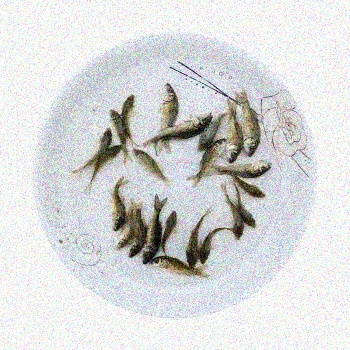fry: (139, 200, 164, 264), (239, 98, 263, 161), (152, 80, 184, 127), (130, 143, 165, 183), (223, 102, 243, 168), (152, 255, 198, 283), (163, 112, 214, 137), (103, 179, 128, 230), (200, 225, 231, 266), (200, 137, 224, 185), (87, 126, 112, 171), (227, 157, 272, 178), (235, 194, 259, 233), (160, 207, 181, 251), (118, 94, 142, 132), (130, 218, 151, 261), (185, 217, 201, 273), (106, 107, 129, 145), (241, 176, 271, 205), (86, 144, 125, 166), (197, 113, 216, 154), (227, 204, 245, 247), (117, 215, 136, 248)
